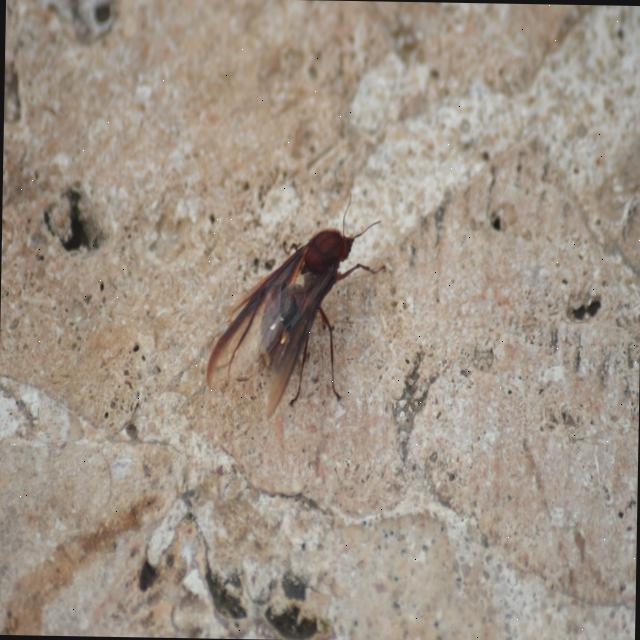Alive-Male-Alate: (204, 188, 388, 424)
